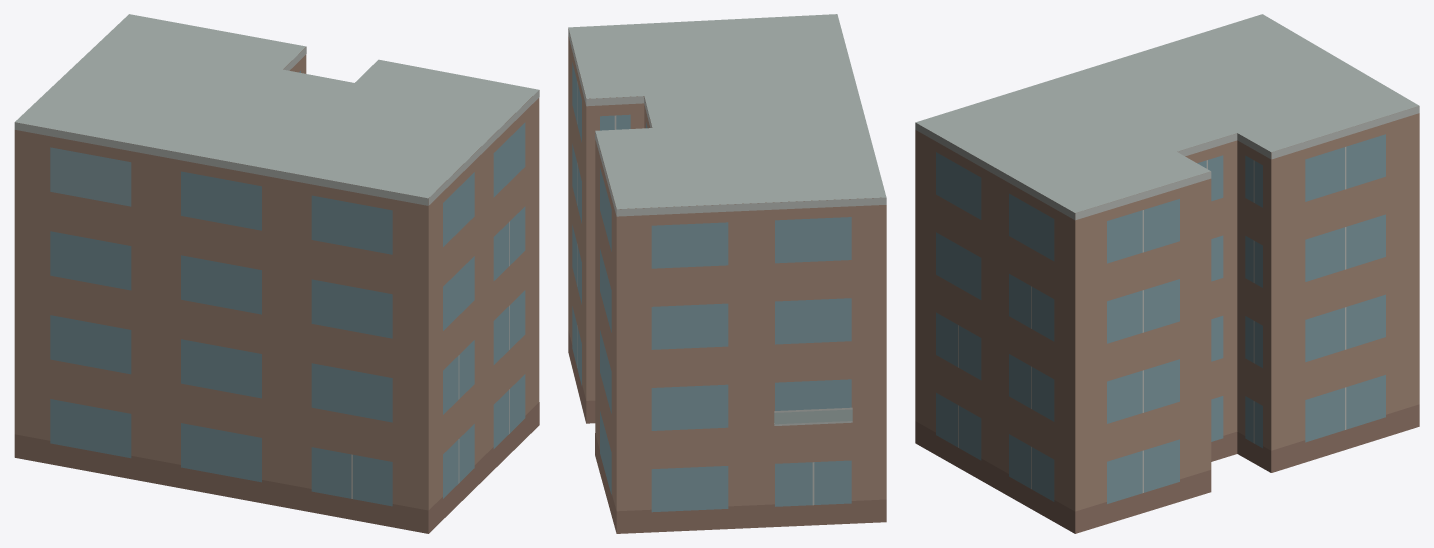
File: survey-upis-33012369.glb
The picture shows the model from 3 angles, left to right: view 1: azimuth 30°, elevation 25°; view 2: azimuth 150°, elevation 25°; view 3: azimuth 270°, elevation 25°; orthographic projection. The views are drawn at different scales.
Visible parts, largest first — view 1: survey-upis-33012369.tmp; view 2: survey-upis-33012369.tmp; view 3: survey-upis-33012369.tmp.
Boxes of the visible parts, box(x1,y1,x2,y2) form: survey-upis-33012369.tmp: box(14, 14, 539, 533); survey-upis-33012369.tmp: box(568, 14, 886, 533); survey-upis-33012369.tmp: box(915, 14, 1419, 533).
Size of the model in its own units: 14.39 by 10.8 by 15.4.
